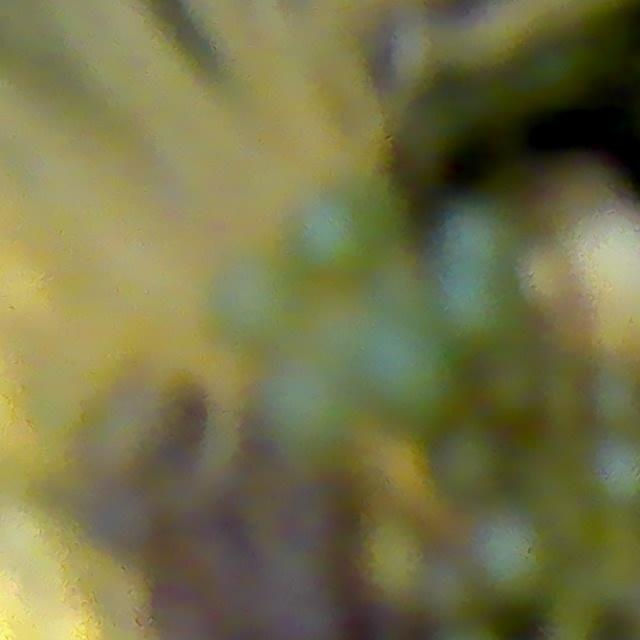SeaGrape: (256, 356, 357, 458), (364, 331, 464, 428), (291, 189, 383, 280), (435, 260, 525, 350), (471, 521, 560, 607), (437, 202, 523, 284), (433, 423, 506, 500), (589, 430, 640, 511)
